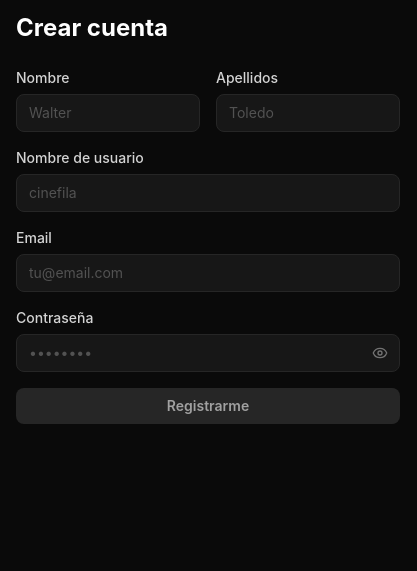
Test: AuthForm password rules › hides the strength bar until something is typed
Type "a" into the password field labelled "Contraseña".
click(208, 353); type("a")  # box [16,334,400,372]
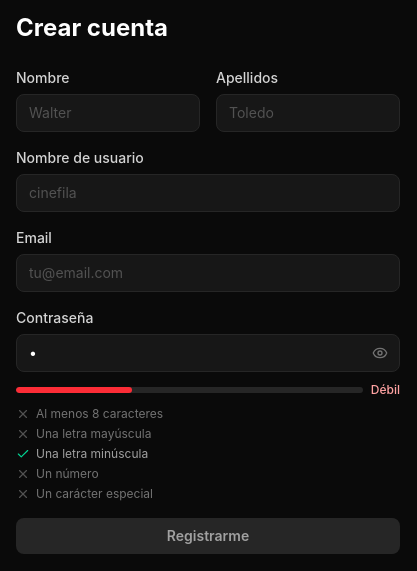
Now the progress indicator is shown, box [16,387,363,393]
